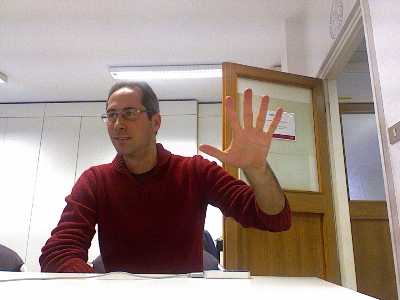布: (196, 86, 284, 170)
